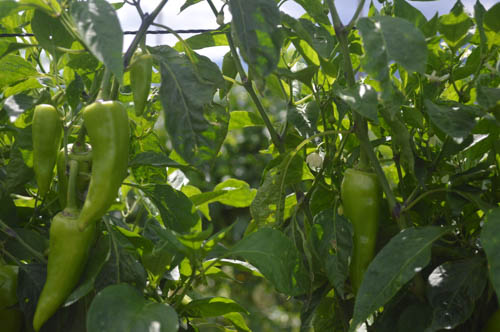ChiliPepper: (74, 104, 127, 232), (30, 214, 90, 327), (341, 170, 384, 285), (27, 104, 58, 194), (127, 53, 157, 116)
